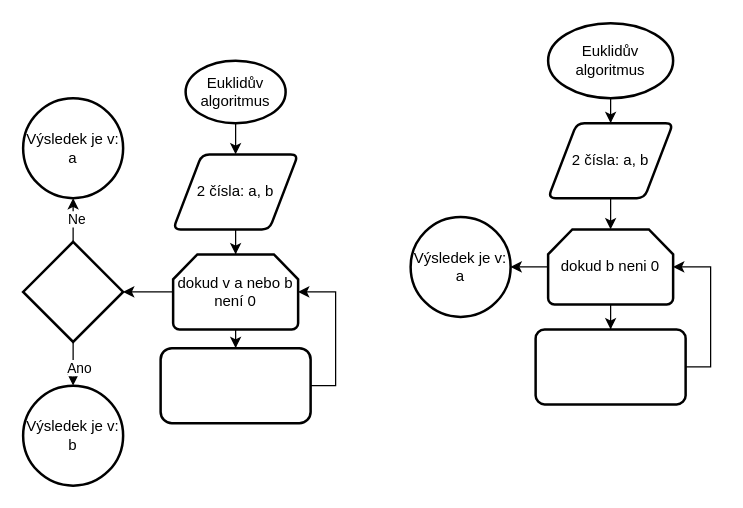
Image size: 743x508. Some labels were removed from this diagram. Each missing label, with the centre of its shape:
"a == 0 ?" goes at pixel 72 291.
"větší číslo zmenším o menší číslo" goes at pixel 235 385.
"z = a%b a = b b = z" goes at pixel 610 366.
